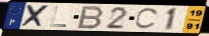1: (165, 7, 181, 32)
2: (105, 6, 130, 30)
B: (75, 6, 106, 30)
C: (133, 8, 161, 31)
L: (48, 5, 68, 28)
X: (20, 4, 51, 29)
